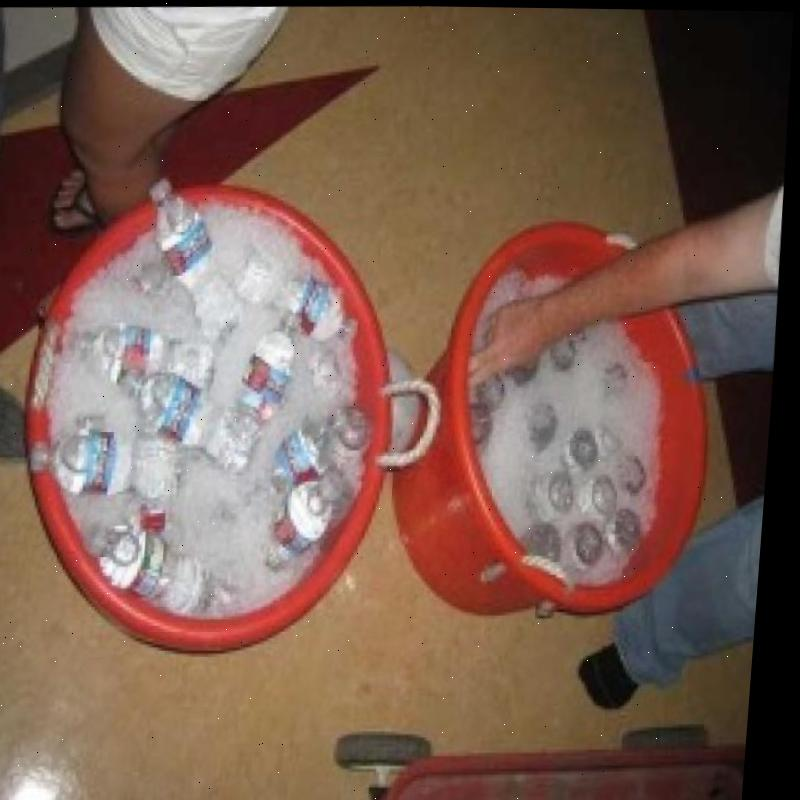botella: (137, 173, 256, 339), (122, 366, 268, 480), (213, 309, 311, 477), (61, 317, 223, 401), (104, 521, 224, 622), (30, 425, 183, 499), (246, 250, 366, 341), (265, 477, 351, 567), (270, 409, 369, 482), (134, 433, 185, 534)
